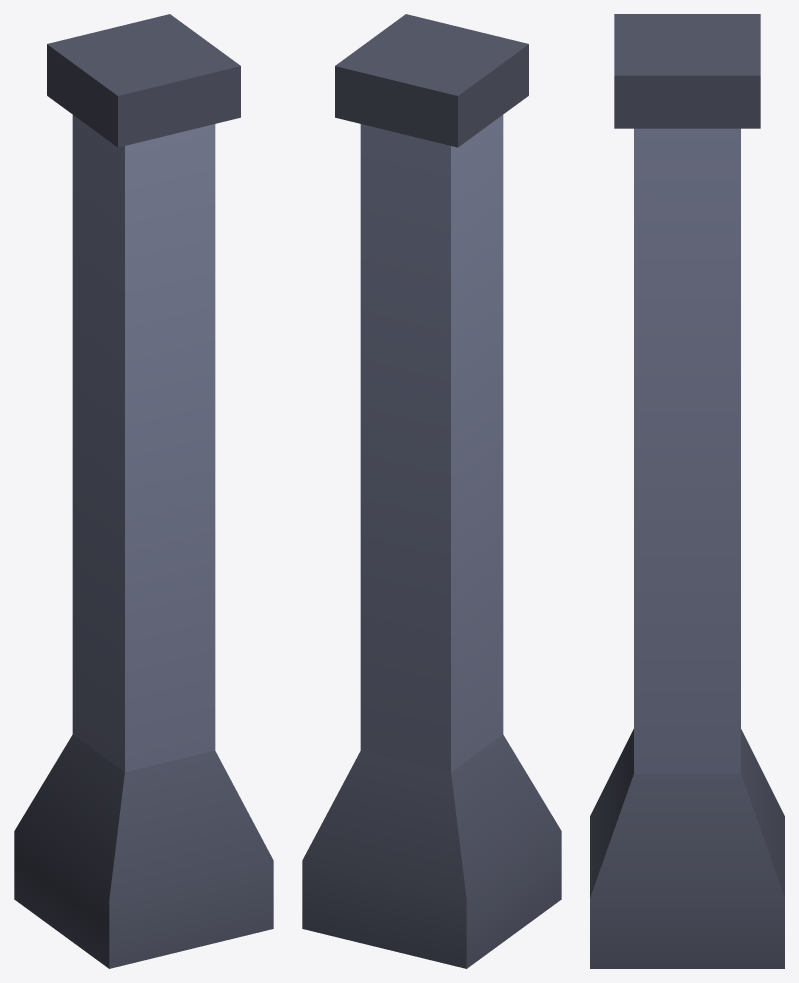
Rendered from bridge-pillar.glb.
The picture shows the model from 3 angles, left to right: view 1: azimuth 30°, elevation 25°; view 2: azimuth 150°, elevation 25°; view 3: azimuth 270°, elevation 25°; orthographic projection. The views are drawn at different scales.
Parts seen in each view (by area): view 1: bridge-pillar; view 2: bridge-pillar; view 3: bridge-pillar.
Part boxes in pixels (bbox=[...]): bridge-pillar: bbox=[14, 14, 273, 968]; bridge-pillar: bbox=[302, 14, 561, 968]; bridge-pillar: bbox=[590, 14, 784, 968].
Bounding box in the file's own units: 0.1 × 0.5 × 0.1.
